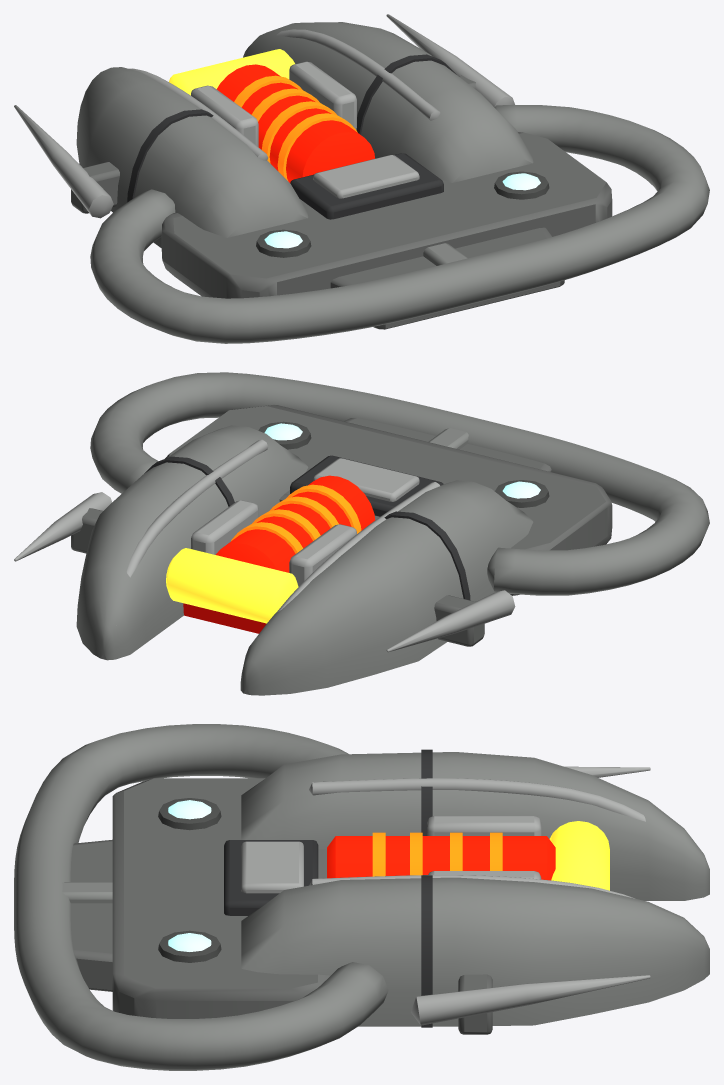
The model's file is store_gun_21.glb.
3 views of the same model, one above another, from view 1: azimuth 30°, elevation 25°; view 2: azimuth 150°, elevation 25°; view 3: azimuth 270°, elevation 25° (orthographic). The views are drawn at different scales.
Parts seen in each view (by area): view 1: hoop, base, shell_-1, shell_1, column, box, tail, lid, antenna_-1, crossbar, shell_rim_1, cheek_1 (+13 smaller); view 2: hoop, shell_-1, shell_1, base, crossbar, column, antenna_-1, lid, shell_rim_1, cheek_1, cheek_-1, antenna_1 (+16 smaller); view 3: shell_1, hoop, shell_-1, base, column, tail, antenna_1, shell_rim_-1, crossbar, lid, box, cheek_-1 (+13 smaller).
Boxes of the visible parts, <box> form: hoop: <box>90,105,709,343</box>; base: <box>161,132,612,298</box>; shell_-1: <box>76,67,308,247</box>; shell_1: <box>243,22,533,182</box>; column: <box>216,64,375,182</box>; box: <box>290,153,443,219</box>; tail: <box>330,227,564,329</box>; lid: <box>313,155,419,198</box>; antenna_-1: <box>14,105,113,218</box>; crossbar: <box>169,49,294,95</box>; shell_rim_1: <box>276,29,440,120</box>; cheek_1: <box>289,61,356,129</box>; hoop: <box>90,372,709,595</box>; shell_-1: <box>240,480,533,695</box>; shell_1: <box>76,425,308,660</box>; base: <box>165,405,612,595</box>; crossbar: <box>166,548,298,623</box>; column: <box>215,475,375,572</box>; antenna_-1: <box>386,590,515,652</box>; lid: <box>313,458,419,501</box>; shell_rim_1: <box>117,439,268,625</box>; cheek_1: <box>191,500,258,554</box>; cheek_-1: <box>289,524,356,586</box>; antenna_1: <box>14,492,112,561</box>; shell_1: <box>241,877,709,1026</box>; hoop: <box>14,724,388,1070</box>; shell_-1: <box>241,752,709,900</box>; base: <box>112,778,329,1018</box>; column: <box>327,836,555,880</box>; tail: <box>70,839,112,991</box>; antenna_1: <box>411,975,650,1025</box>; shell_rim_-1: <box>309,778,645,821</box>; crossbar: <box>549,821,609,890</box>; lid: <box>241,841,303,893</box>; box: <box>224,840,318,915</box>; cheek_-1: <box>427,816,541,835</box>.
Size of the model in its own units: 53.05 by 8.75 by 48.7.
